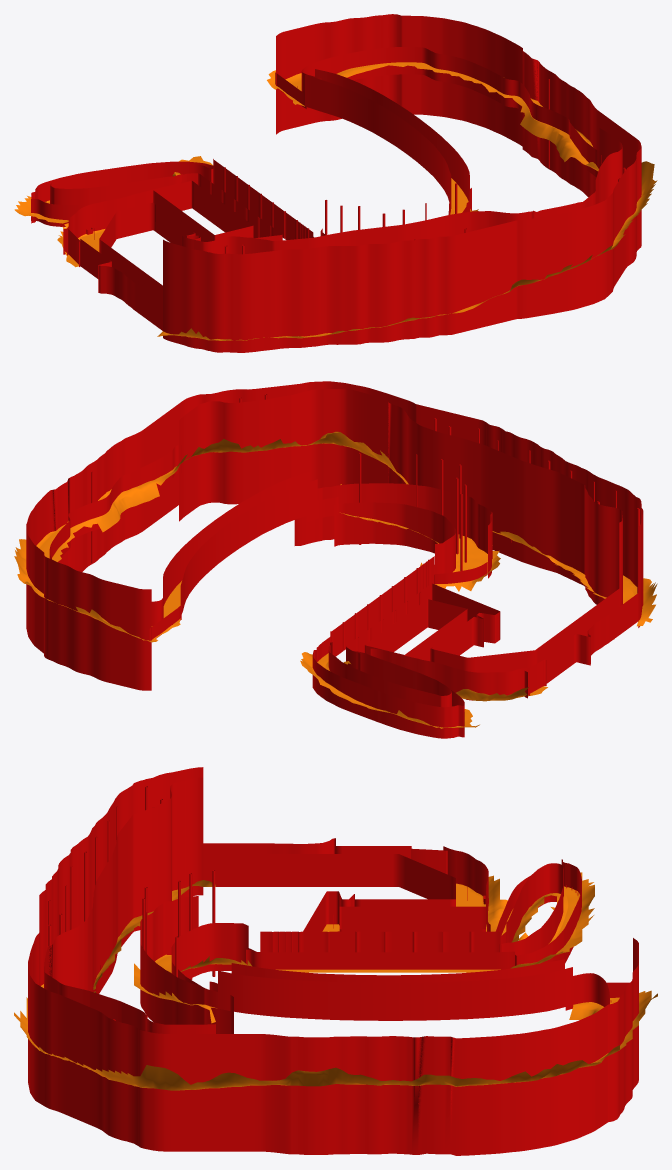
Rendered from colmesh.fbx.
3 renders of one model, top to bottom at view 1: azimuth 30°, elevation 25°; view 2: azimuth 150°, elevation 25°; view 3: azimuth 270°, elevation 25°, orthographic. The views are drawn at different scales.
Visible parts, largest first — view 1: Mesh (2), Mesh; view 2: Mesh (2), Mesh; view 3: Mesh (2), Mesh.
Part boxes in pixels (box(x1,y1,x2,y2)): Mesh (2): box(31, 14, 641, 352); Mesh: box(14, 62, 657, 340); Mesh (2): box(26, 381, 643, 738); Mesh: box(14, 431, 657, 728); Mesh (2): box(28, 767, 638, 1155); Mesh: box(14, 872, 657, 1090).
Bounding box in the file's own units: 52500 × 10389 × 51000.
